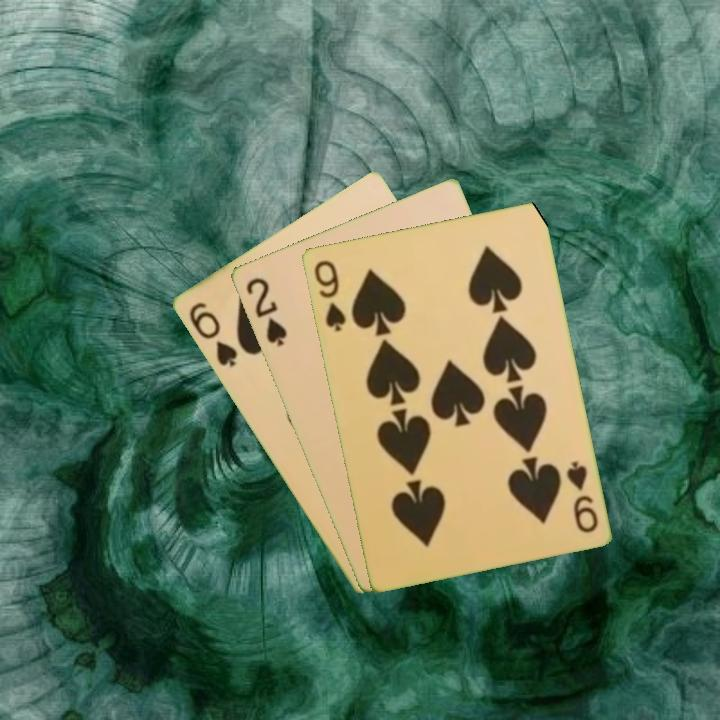2s: (242, 273, 290, 350)
6s: (184, 298, 240, 370)
9s: (562, 457, 601, 536), (310, 256, 349, 334)
